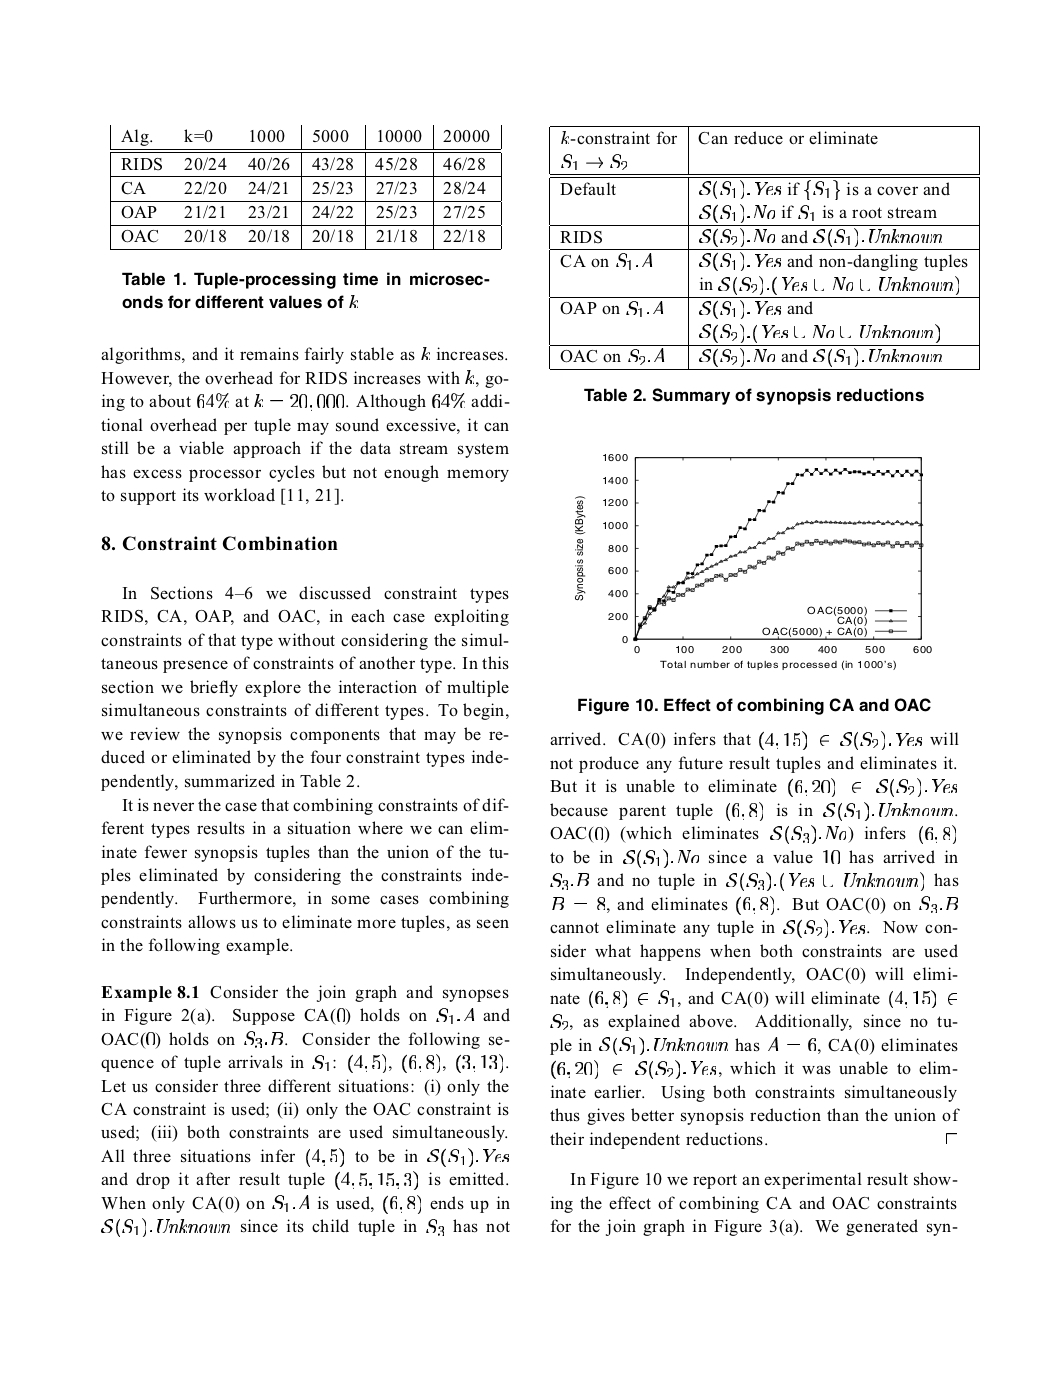Table: (549, 125, 979, 370), (110, 124, 502, 250)
figure: (575, 454, 931, 669)
